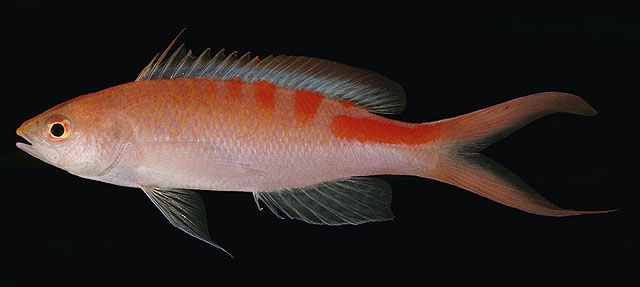fish: (15, 30, 617, 257)
